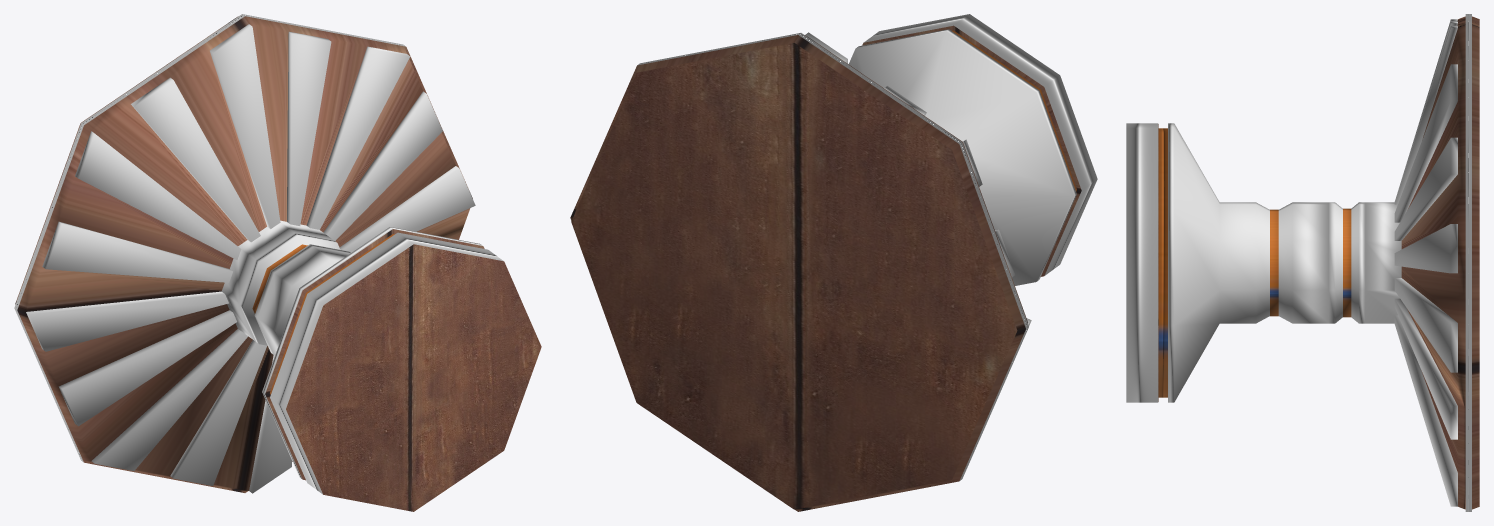
File: mesaTabuleiro.fbx
3 views of the same model, side by side, from view 1: azimuth 30°, elevation 25°; view 2: azimuth 150°, elevation 25°; view 3: azimuth 270°, elevation 25° (orthographic).
Visible parts, largest first — view 1: Cylinder; view 2: Cylinder; view 3: Cylinder.
Boxes of the visible parts, x1,y1,x2,y2 form: Cylinder: [14, 14, 541, 511]; Cylinder: [570, 14, 1097, 511]; Cylinder: [1126, 14, 1479, 511].
Bounding box in the file's own units: 1 × 1.5 × 1.5.
5 materials, 2 textured.
